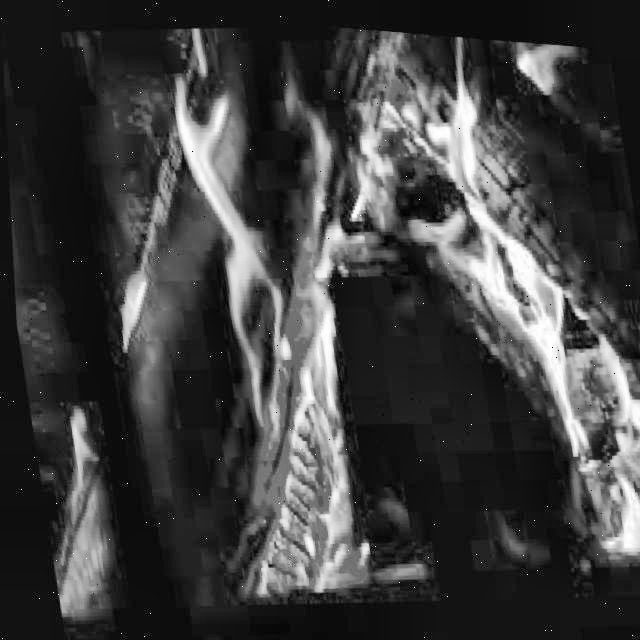Fire: (387, 25, 640, 554), (158, 14, 322, 408)
